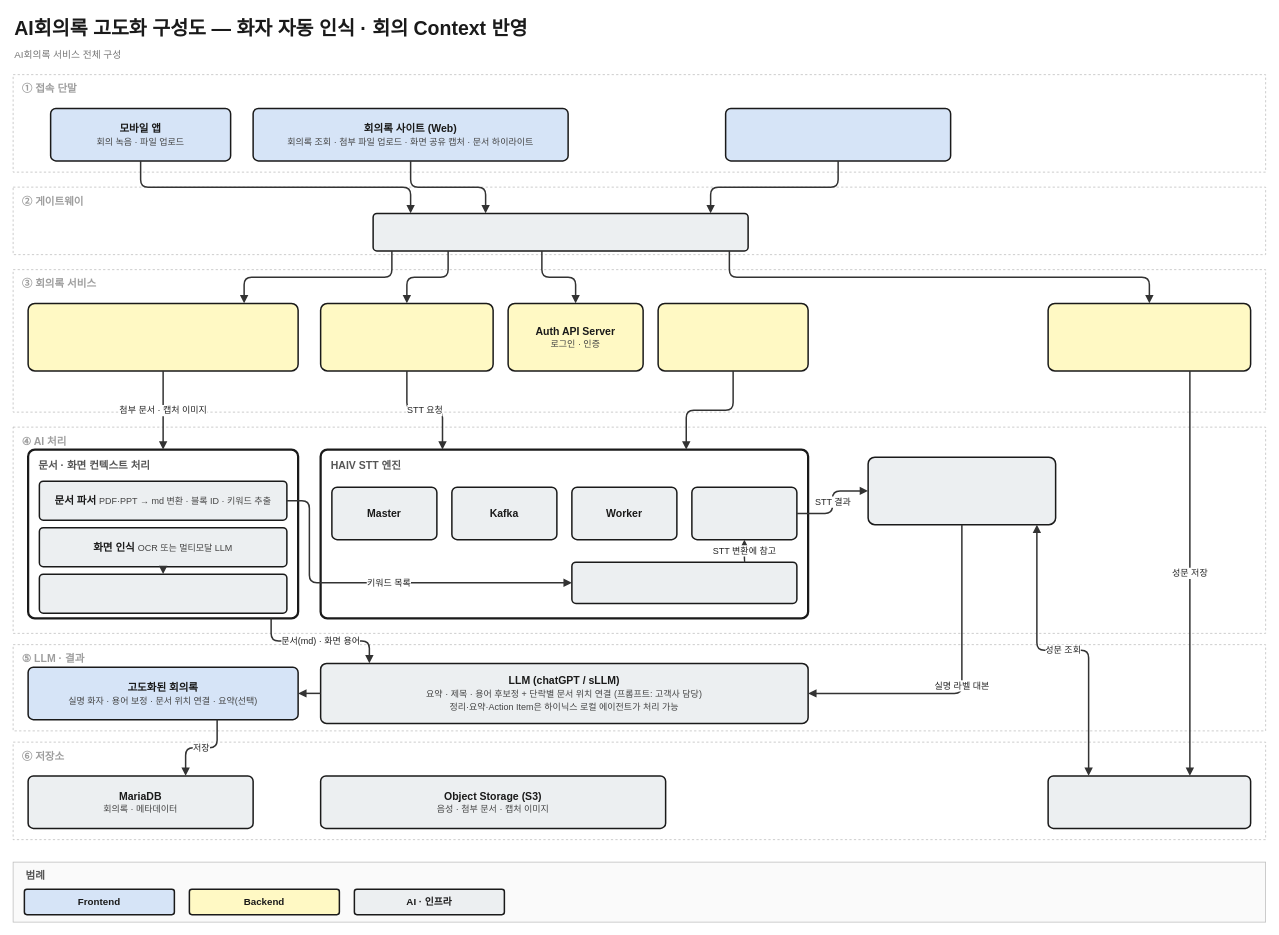
Image size: 1279x935. Some labels were removed from this diagram. Each missing label, with the centre of its shape:
"Decoder (Whisper)" goes at (x=744, y=513).
"L4 · Nginx · API Gateway" goes at (x=560, y=231).
"Main API Server 업로드 · STT 요청 · 회의록 생성" goes at (x=407, y=336).
"다수 녹음 병합 휴대폰 여러 대 녹음 · 비프음 싱크" goes at (x=732, y=336).
"성문 등록 화면 모바일 앱 권장 · 동의 + 음성 녹음" goes at (x=837, y=134).
"성문 등록·관리 API 동의 이력 · 성문 등록/삭제" goes at (x=1149, y=336).
"성문 저장소 화자 임베딩 · 암호화 보관" goes at (x=1149, y=802).
"컨텍스트 수집 API 첨부 문서 · 화면 캡처 이미지 수신" goes at (x=162, y=336).
"키워드 부스팅 문서 키워드를 STT 요청에 함께 전달" goes at (x=684, y=582).
"타임라인 정렬 · 자료별 발화 태깅 자료 열람 시점 ↔ STT 시간 매칭" goes at (x=162, y=593).
"화자분리 + 성문 매칭 3rd-party 화자 임베딩 모델" goes at (x=961, y=490).
